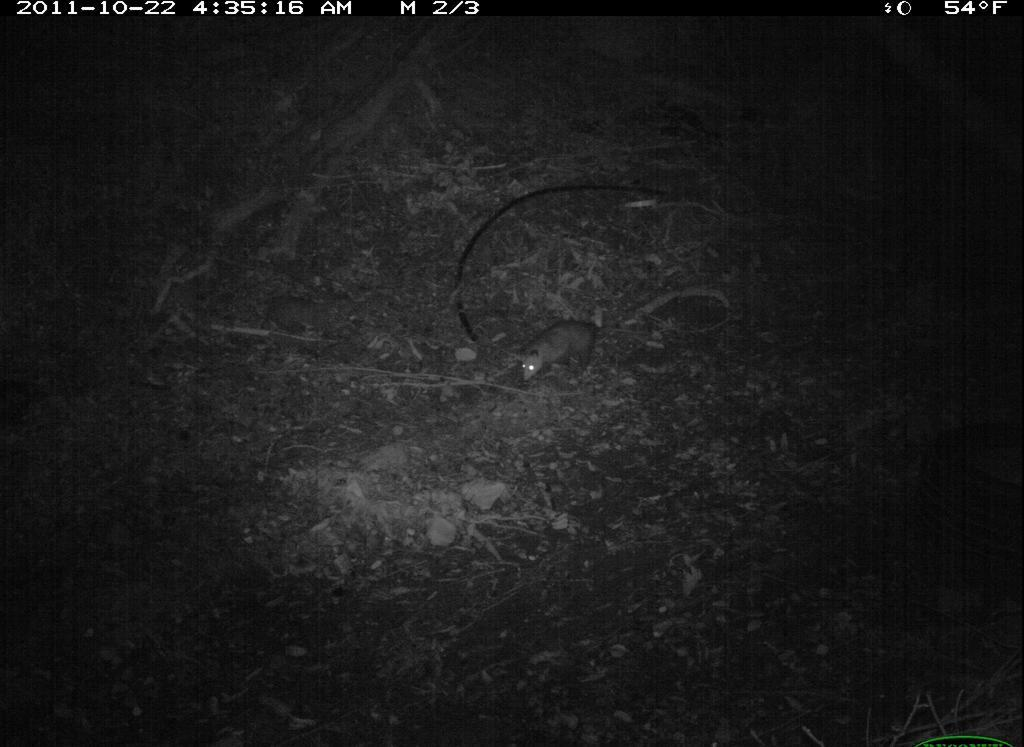opossum: (498, 315, 620, 408)
